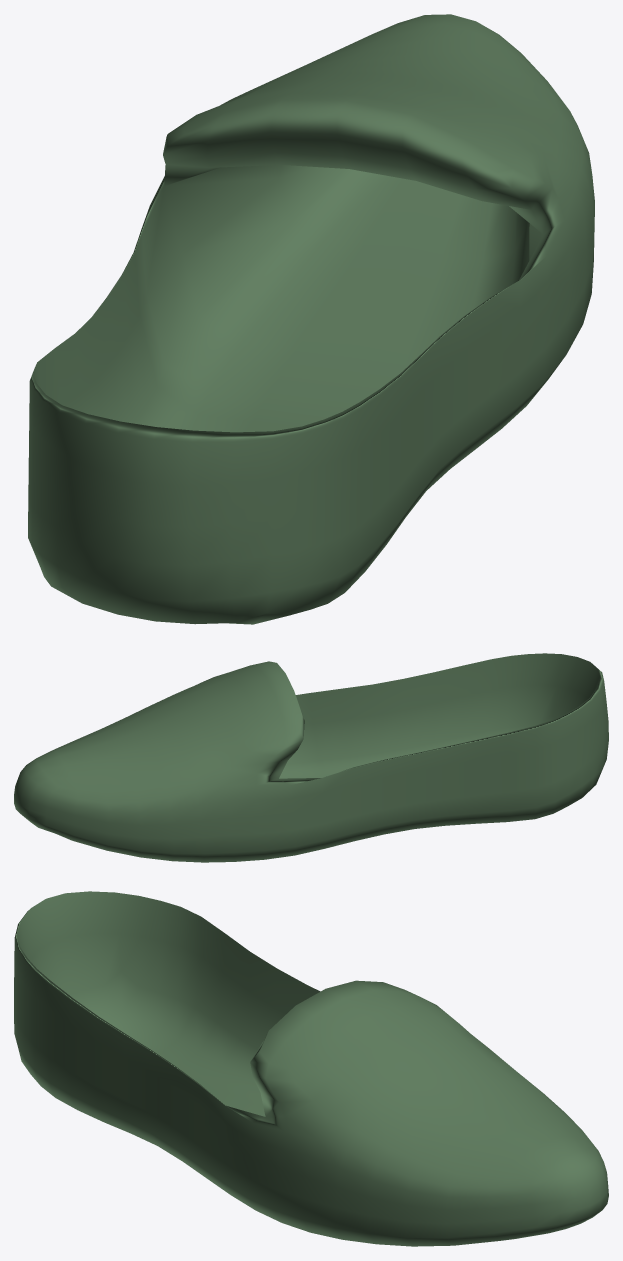
File: loft1.fbx
3 views of the same model, one above another, from view 1: azimuth 30°, elevation 25°; view 2: azimuth 150°, elevation 25°; view 3: azimuth 270°, elevation 25° (orthographic). The views are drawn at different scales.
Parts seen in each view (by area): view 1: Flat; view 2: Flat; view 3: Flat.
Part boxes in pixels (x1=…): Flat: x1=28, y1=14, x2=594, y2=624; Flat: x1=14, y1=653, x2=608, y2=862; Flat: x1=14, y1=891, x2=608, y2=1246.
Bounding box in the file's own units: 3.18 × 1.11 × 3.22.
